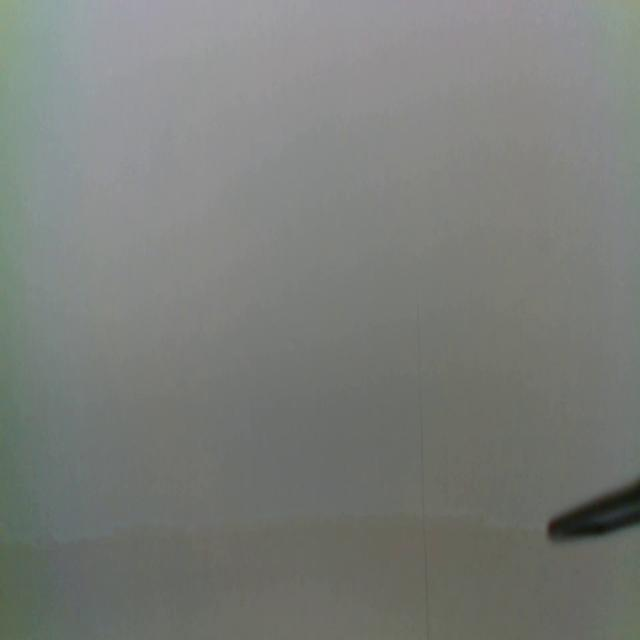crease: (414, 295, 430, 640)
